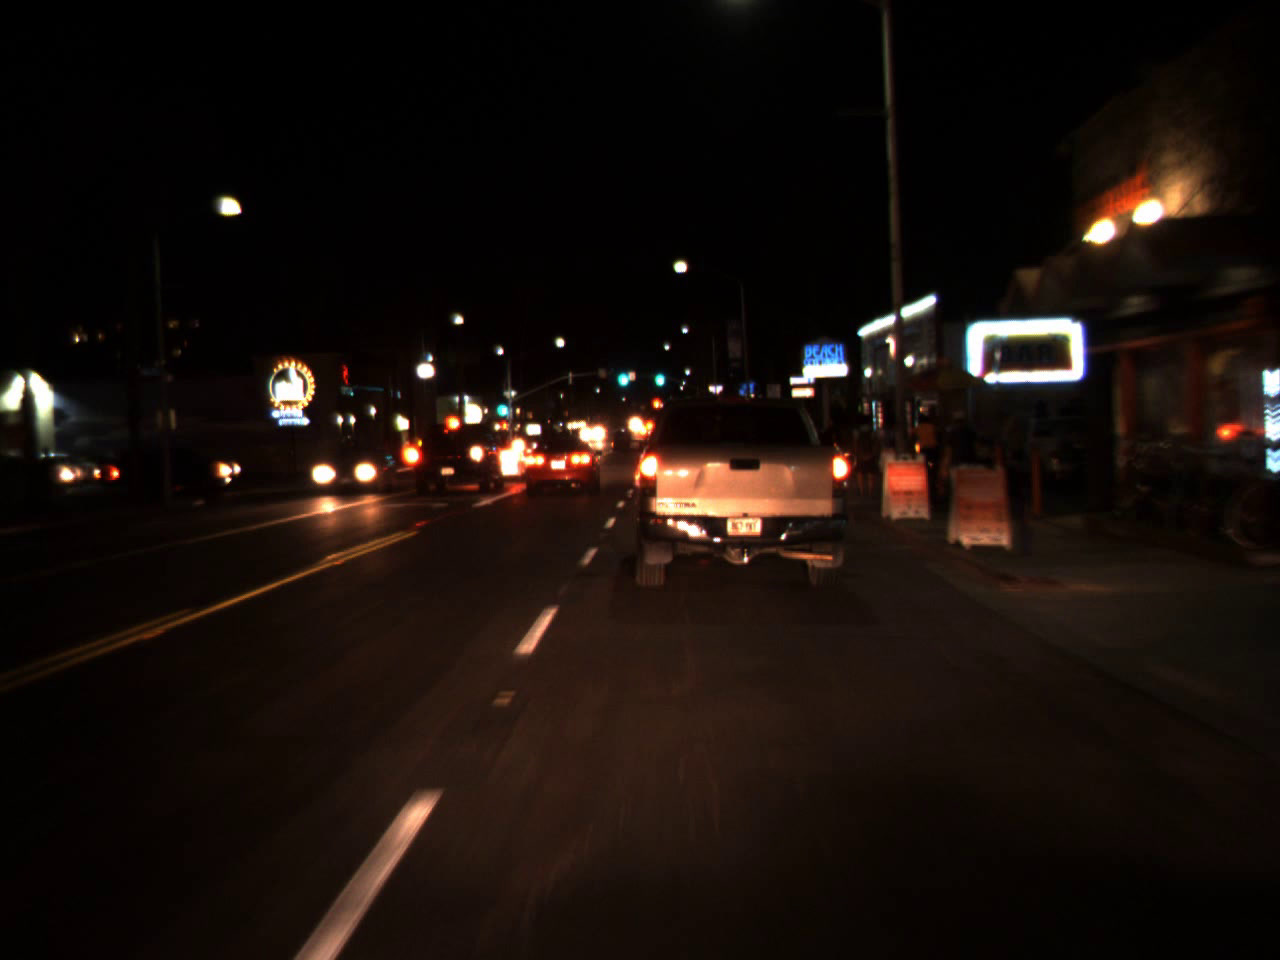go: (612, 357, 633, 390), (493, 388, 511, 421), (652, 358, 666, 391)
